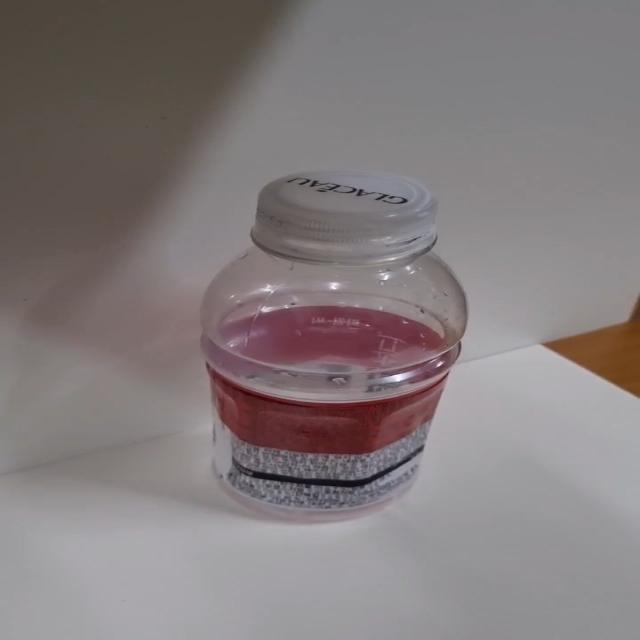Plastic: (204, 168, 469, 528)
